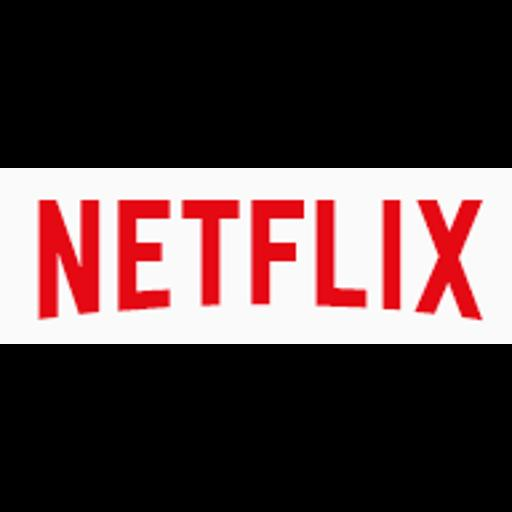Netflix: (0, 168, 512, 344)
